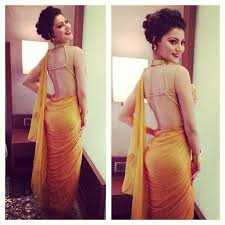indian_female: (142, 1, 190, 66)
